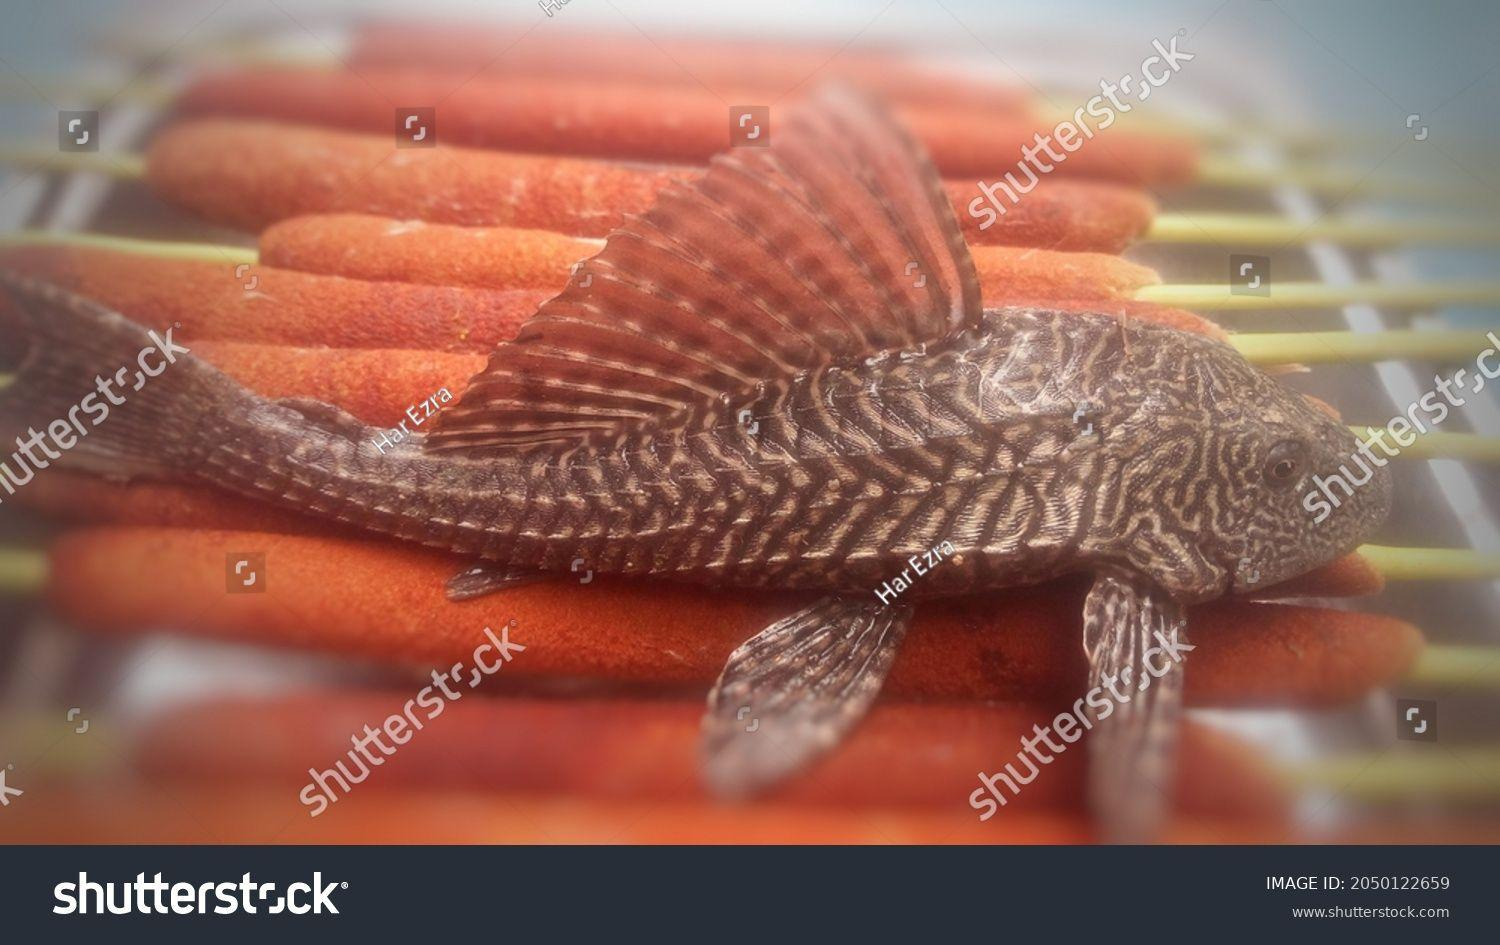Janitor Fish: (13, 85, 1396, 843)
